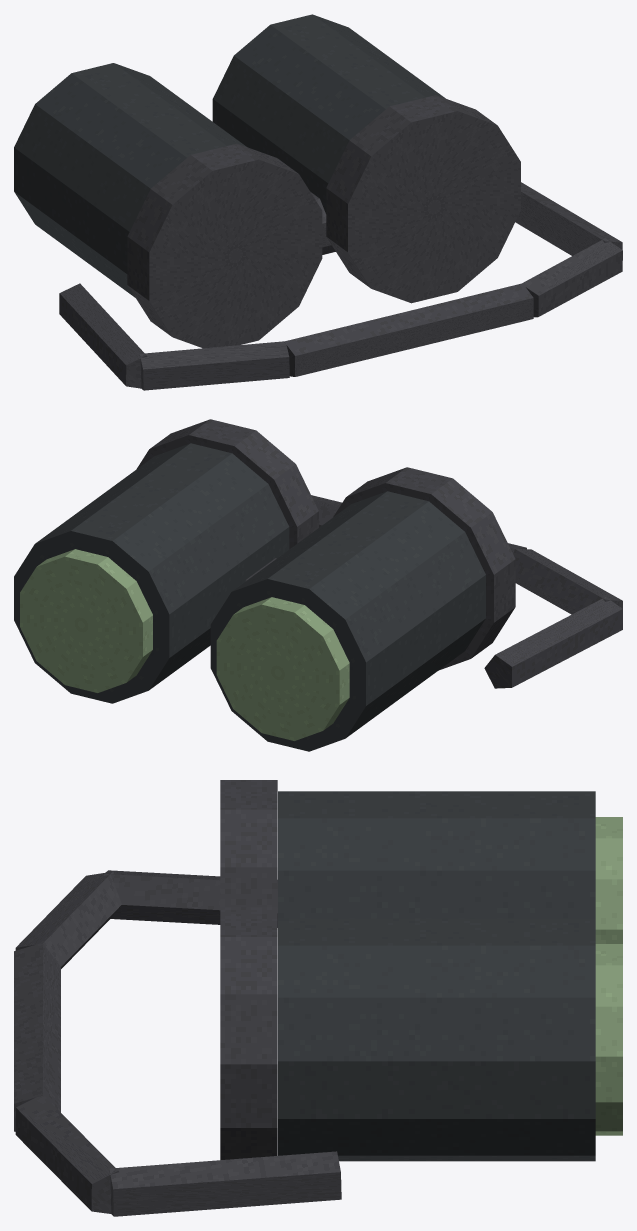
Rendered from military_nvg.glb.
3 views of the same model, one above another, from view 1: azimuth 30°, elevation 25°; view 2: azimuth 150°, elevation 25°; view 3: azimuth 270°, elevation 25° (orthographic). The views are drawn at different scales.
Parts seen in each view (by area): view 1: block_rubber eyecup (×2), block_night vision tube (×2), block_head strap or temple pieces 2, block_head strap or temple pieces 1, block_head strap or temple pieces 0, block_head strap or temple pieces 3, block_head strap or temple pieces 4; view 2: block_night vision tube (×2), block_front optic (×2), block_rubber eyecup (×2), block_head strap or temple pieces 0, block_head strap or temple pieces 1, block_head strap or temple pieces 2; view 3: block_night vision tube (×2), block_rubber eyecup (×2), block_head strap or temple pieces 4, block_front optic (×2), block_head strap or temple pieces 2, block_head strap or temple pieces 3, block_head strap or temple pieces 0, block_head strap or temple pieces 1.
Part boxes in pixels (bbox=[...]): block_rubber eyecup (×2): bbox=[127, 95, 520, 348]; block_night vision tube (×2): bbox=[14, 14, 445, 297]; block_head strap or temple pieces 2: bbox=[284, 283, 533, 376]; block_head strap or temple pieces 1: bbox=[139, 341, 289, 390]; block_head strap or temple pieces 0: bbox=[59, 283, 147, 388]; block_head strap or temple pieces 3: bbox=[521, 238, 622, 317]; block_head strap or temple pieces 4: bbox=[515, 182, 622, 255]; block_night vision tube (×2): bbox=[14, 443, 485, 751]; block_front optic (×2): bbox=[20, 549, 349, 740]; block_rubber eyecup (×2): bbox=[137, 419, 515, 670]; block_head strap or temple pieces 0: bbox=[484, 597, 622, 688]; block_head strap or temple pieces 1: bbox=[513, 548, 622, 614]; block_head strap or temple pieces 2: bbox=[311, 495, 526, 553]; block_night vision tube (×2): bbox=[278, 791, 595, 1161]; block_rubber eyecup (×2): bbox=[220, 780, 277, 1160]; block_head strap or temple pieces 4: bbox=[109, 1151, 341, 1216]; block_front optic (×2): bbox=[595, 817, 622, 1135]; block_head strap or temple pieces 2: bbox=[14, 942, 60, 1131]; block_head strap or temple pieces 3: bbox=[15, 1094, 118, 1213]; block_head strap or temple pieces 0: bbox=[104, 870, 277, 927]; block_head strap or temple pieces 1: bbox=[15, 871, 121, 968].
Bounding box in the file's own units: 0.2667 × 0.0925 × 0.2152.
1 material, 1 textured.
